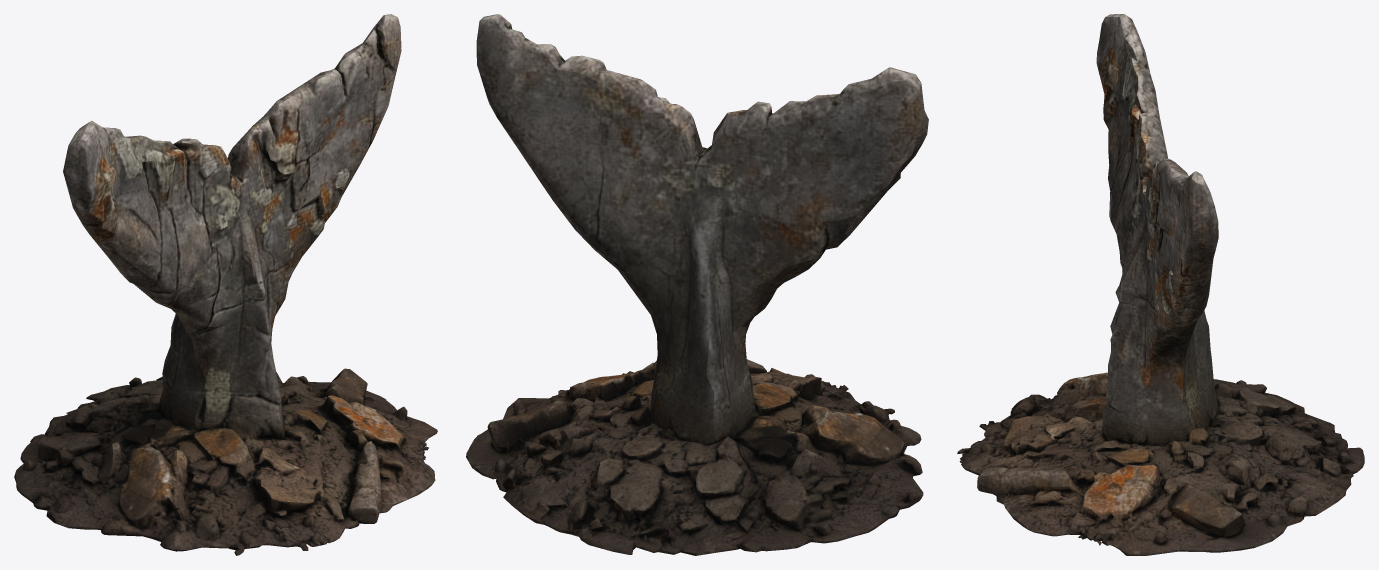
File: lm_whaletail.glb
3 renders of one model, left to right at view 1: azimuth 30°, elevation 25°; view 2: azimuth 150°, elevation 25°; view 3: azimuth 270°, elevation 25°, orthographic. The views are drawn at different scales.
Parts seen in each view (by area): view 1: world; view 2: world; view 3: world.
Boxes of the visible parts, x1,y1,x2,y2 form: world: (14,14,437,555); world: (466,14,928,555); world: (957,14,1364,555).
Size of the model in its own units: 34.05 by 34 by 33.02.
1 material, 1 textured.
